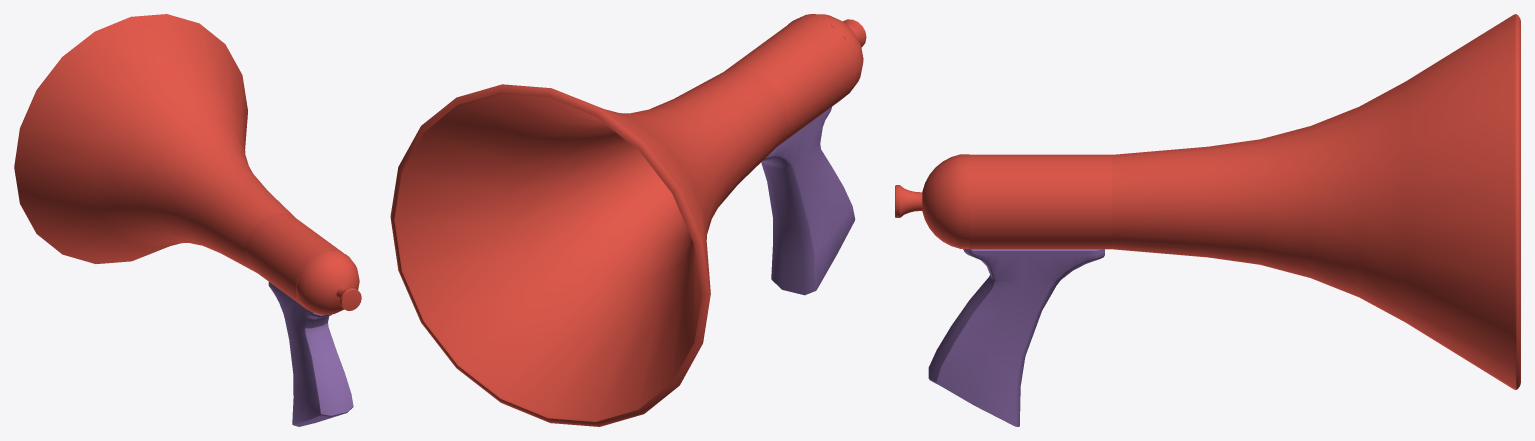
Rendered from People_Gun.fbx.
3 views of the same model, side by side, from view 1: azimuth 30°, elevation 25°; view 2: azimuth 150°, elevation 25°; view 3: azimuth 270°, elevation 25° (orthographic). The views are drawn at different scales.
Parts seen in each view (by area): view 1: People_Gun; view 2: People_Gun; view 3: People_Gun.
Boxes of the visible parts, <box> form: People_Gun: <box>14,14,361,426</box>; People_Gun: <box>390,14,866,426</box>; People_Gun: <box>895,14,1520,426</box>.
Size of the model in its own units: 40.68 by 46.37 by 67.18.
